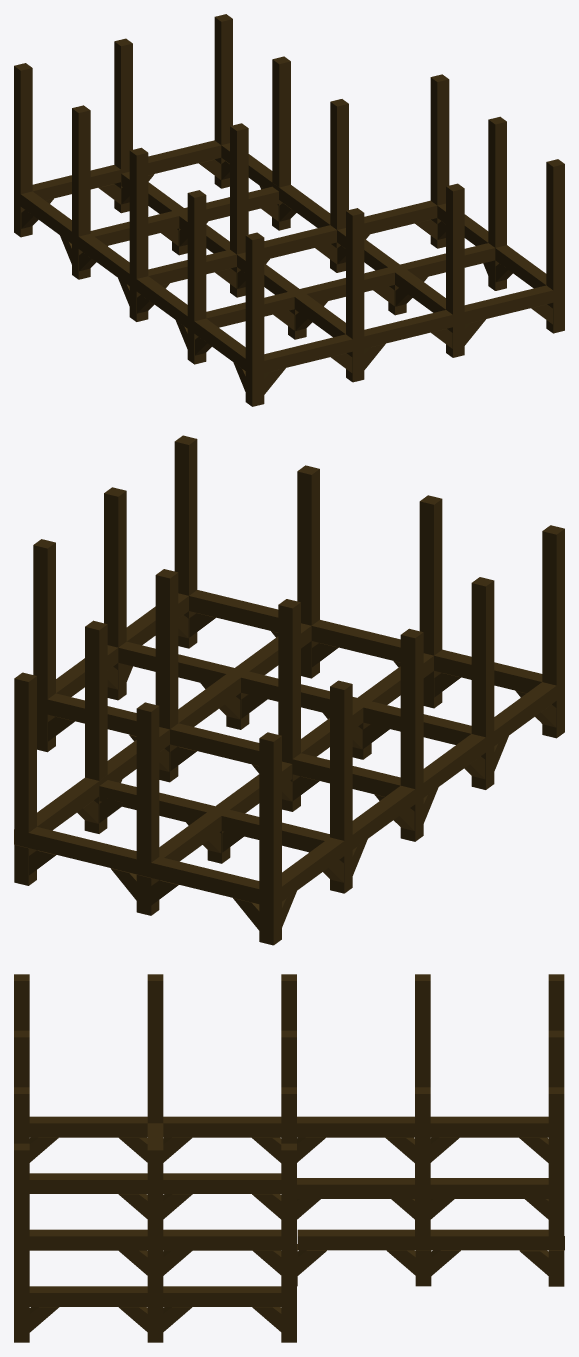
File: temelj_3x4 g.FBX
3 renders of one model, top to bottom at view 1: azimuth 30°, elevation 25°; view 2: azimuth 150°, elevation 25°; view 3: azimuth 270°, elevation 25°, orthographic. The views are drawn at different scales.
Parts seen in each view (by area): view 1: temeljna_ugaona_Greda022; view 2: temeljna_ugaona_Greda022; view 3: temeljna_ugaona_Greda022.
Part boxes in pixels (box(x1,y1,x2,y2)): temeljna_ugaona_Greda022: box(14, 14, 564, 406); temeljna_ugaona_Greda022: box(14, 435, 564, 945); temeljna_ugaona_Greda022: box(14, 974, 564, 1342).
Size of the model in its own units: 530 by 270 by 701.
